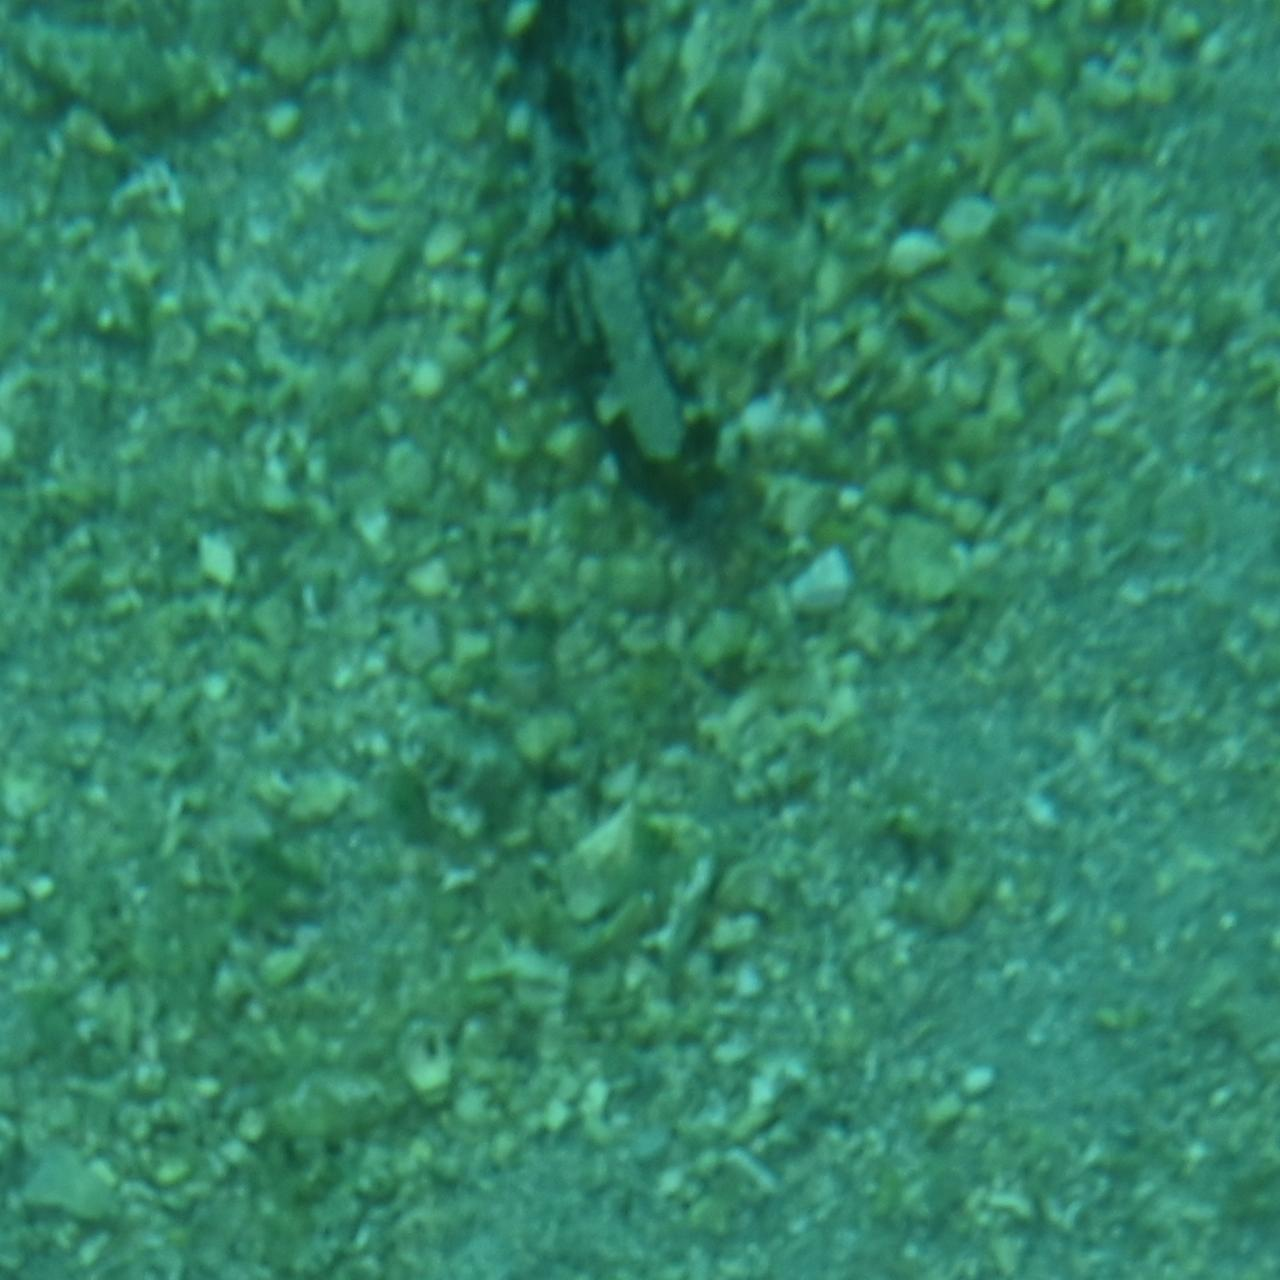Holothuria tubulosa: (510, 9, 770, 543)
